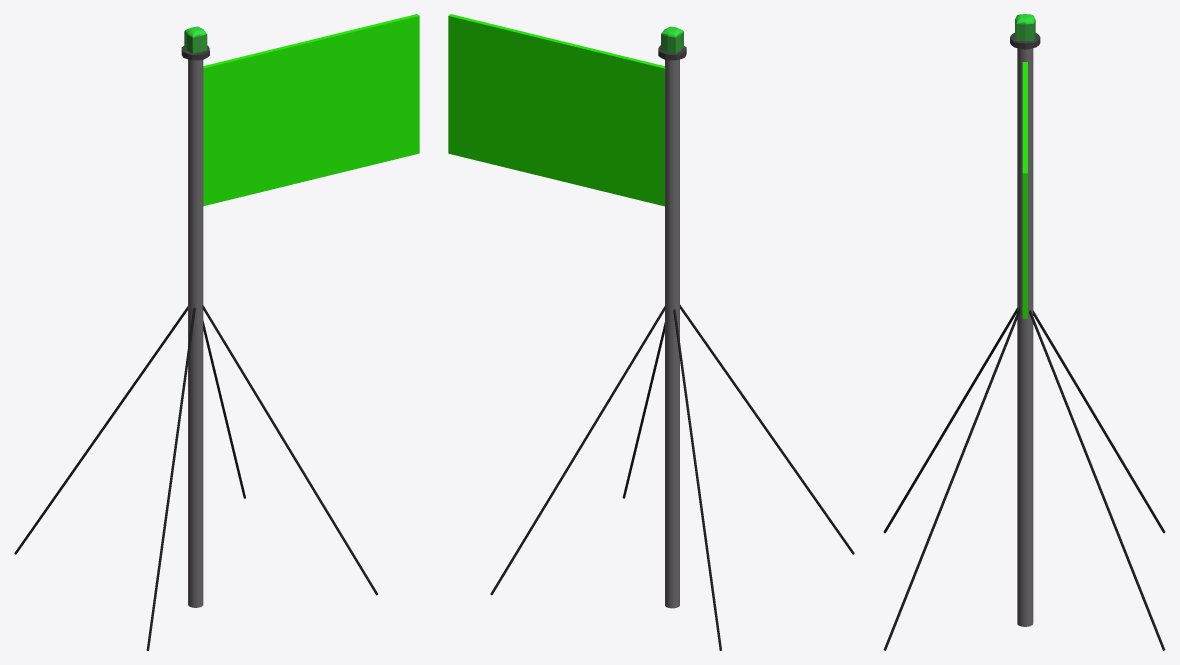
Rendered from OBJETIVO.glb.
3 renders of one model, left to right at view 1: azimuth 30°, elevation 25°; view 2: azimuth 150°, elevation 25°; view 3: azimuth 270°, elevation 25°, orthographic. The views are drawn at different scales.
Parts seen in each view (by area): view 1: OBJETIVO_Cubo, OBJETIVO_Cilindro, OBJETIVO_Cilindro_Corda, OBJETIVO_Cilindro_Corda_2, OBJETIVO_Cilindro_Corda_4, OBJETIVO_Cubo_Luz; view 2: OBJETIVO_Cubo, OBJETIVO_Cilindro, OBJETIVO_Cilindro_Corda_4, OBJETIVO_Cilindro_Corda_3, OBJETIVO_Cilindro_Corda, OBJETIVO_Cubo_Luz; view 3: OBJETIVO_Cilindro, OBJETIVO_Cubo, OBJETIVO_Cilindro_Corda_2, OBJETIVO_Cilindro_Corda_3, OBJETIVO_Cilindro_Corda, OBJETIVO_Cubo_Luz, OBJETIVO_Cilindro_Corda_4.
Boxes of the visible parts, x1,y1,x2,y2 form: OBJETIVO_Cubo: [203, 14, 419, 206]; OBJETIVO_Cilindro: [188, 59, 203, 607]; OBJETIVO_Cilindro_Corda: [146, 307, 195, 650]; OBJETIVO_Cilindro_Corda_2: [202, 305, 378, 595]; OBJETIVO_Cilindro_Corda_4: [14, 306, 187, 554]; OBJETIVO_Cubo_Luz: [181, 26, 209, 60]; OBJETIVO_Cubo: [448, 14, 664, 206]; OBJETIVO_Cilindro: [665, 59, 679, 608]; OBJETIVO_Cilindro_Corda_4: [673, 309, 721, 650]; OBJETIVO_Cilindro_Corda_3: [490, 306, 665, 595]; OBJETIVO_Cilindro_Corda: [680, 304, 854, 554]; OBJETIVO_Cubo_Luz: [658, 26, 686, 60]; OBJETIVO_Cilindro: [1017, 48, 1033, 626]; OBJETIVO_Cubo: [1022, 62, 1027, 318]; OBJETIVO_Cilindro_Corda_2: [883, 308, 1020, 650]; OBJETIVO_Cilindro_Corda_3: [1029, 310, 1165, 650]; OBJETIVO_Cilindro_Corda: [883, 308, 1017, 533]; OBJETIVO_Cubo_Luz: [1010, 14, 1040, 49]; OBJETIVO_Cilindro_Corda_4: [1033, 310, 1165, 533].
Size of what is drawn, in the model's own units: 0.7712 by 1.25 by 0.5279.
4 materials, 3 textured.
